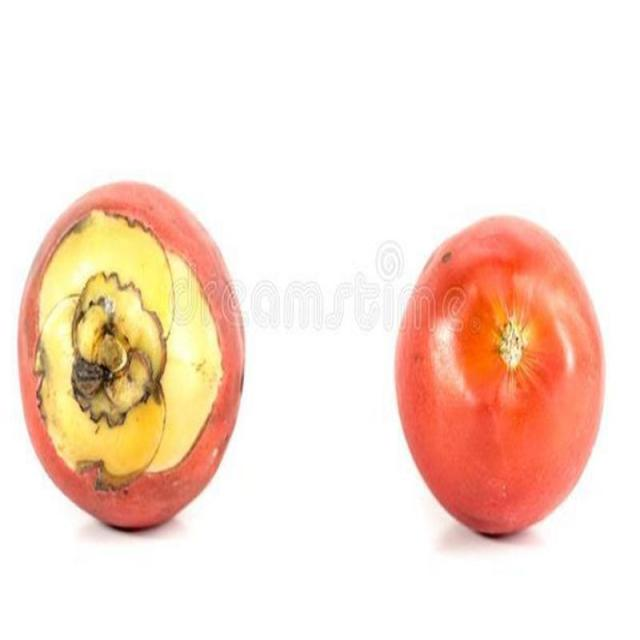good: (16, 181, 247, 536), (394, 216, 606, 542)
